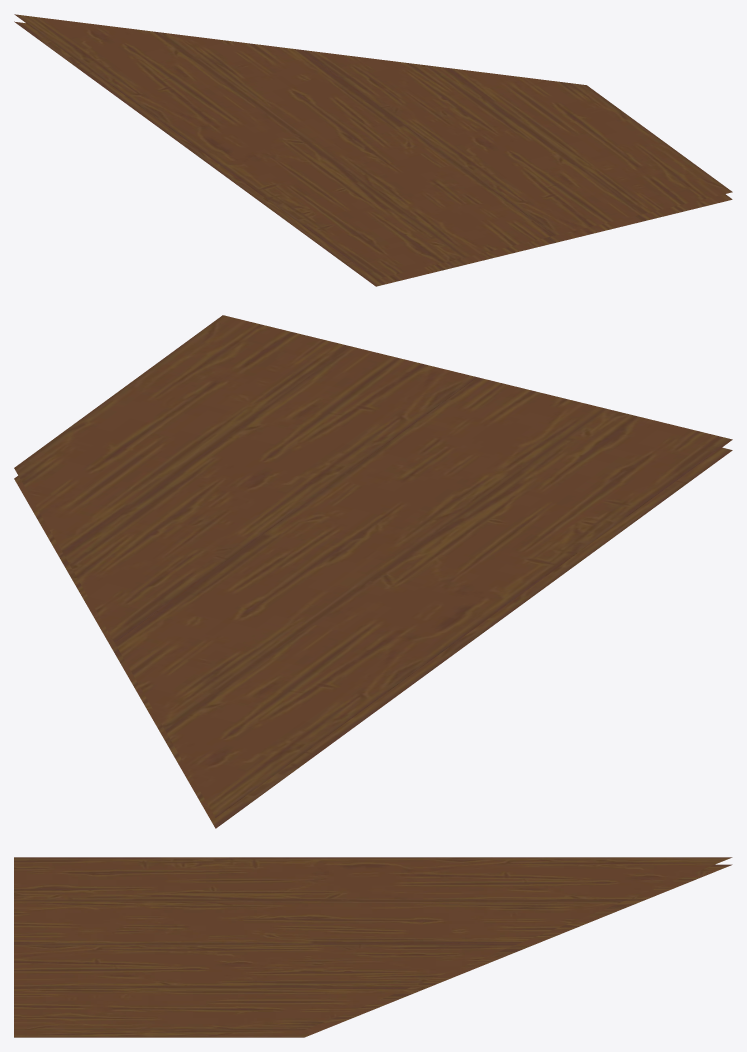
Rendered from Floor_WoodDark_OverhangCorner.glb.
3 renders of one model, top to bottom at view 1: azimuth 30°, elevation 25°; view 2: azimuth 150°, elevation 25°; view 3: azimuth 270°, elevation 25°, orthographic. The views are drawn at different scales.
Parts seen in each view (by area): view 1: Floor_WoodDark_OverhangCorner; view 2: Floor_WoodDark_OverhangCorner; view 3: Floor_WoodDark_OverhangCorner.
Part boxes in pixels (<box>): Floor_WoodDark_OverhangCorner: <box>14,14,732,286</box>; Floor_WoodDark_OverhangCorner: <box>14,315,732,828</box>; Floor_WoodDark_OverhangCorner: <box>14,857,732,1037</box>.
Bounding box in the file's own units: 0.9999 × 0.0199 × 1.76.
Materials: 1 (1 with a texture image).
